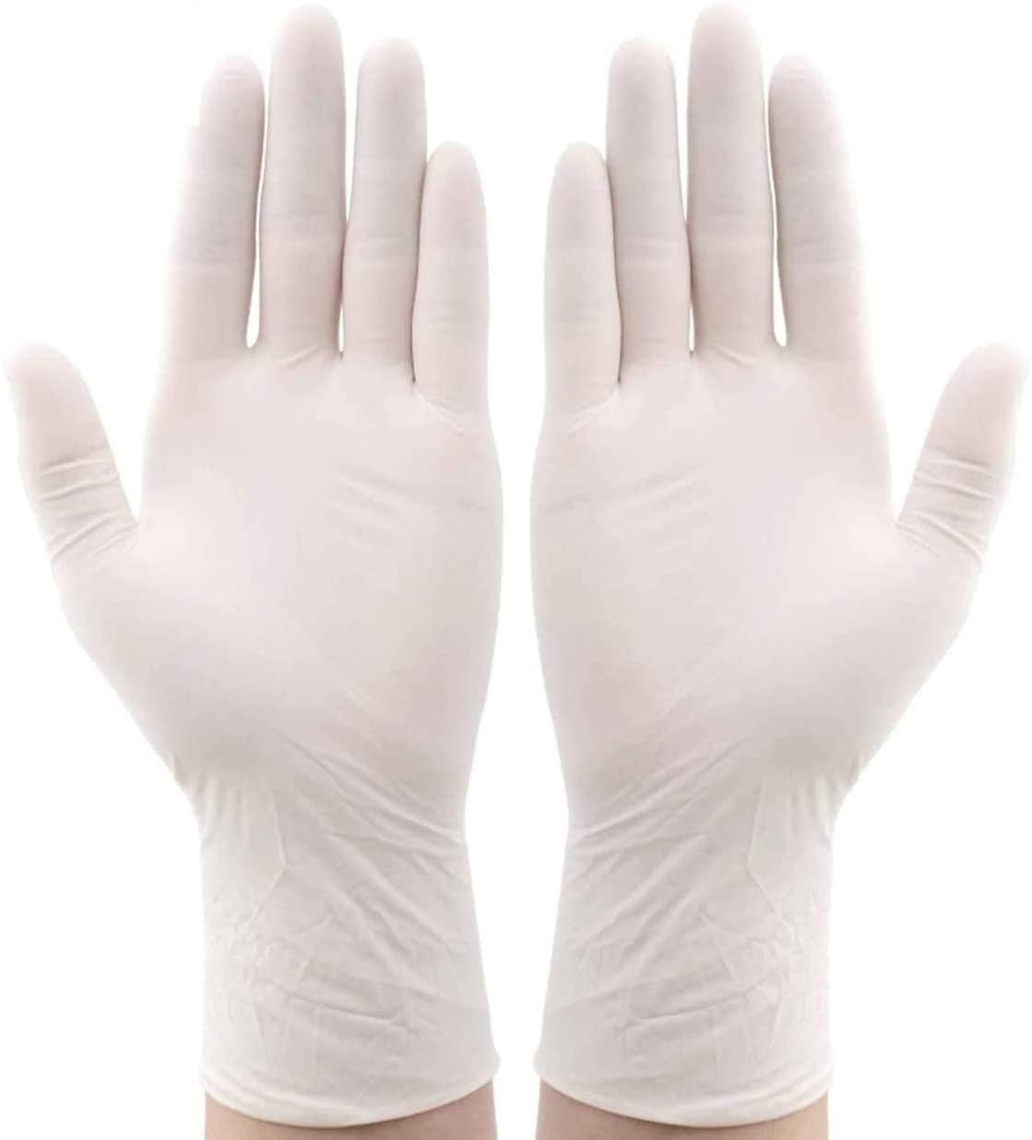gloves: (0, 19, 507, 1127), (538, 26, 1027, 1140)
